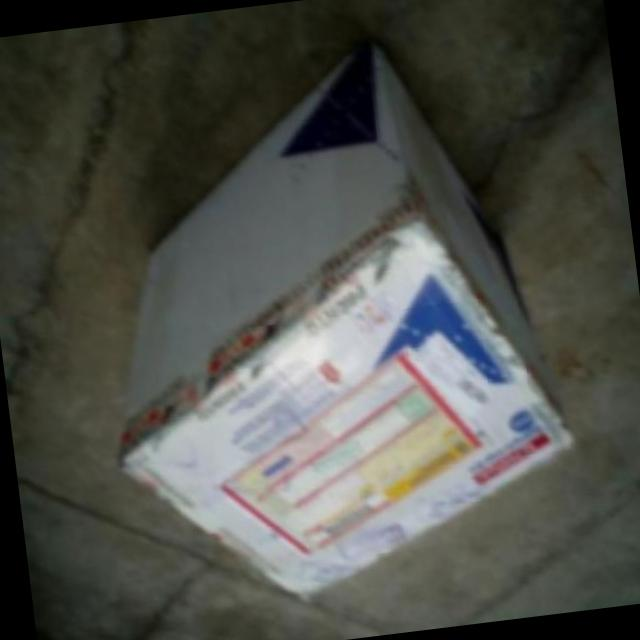box: (59, 16, 574, 622)
